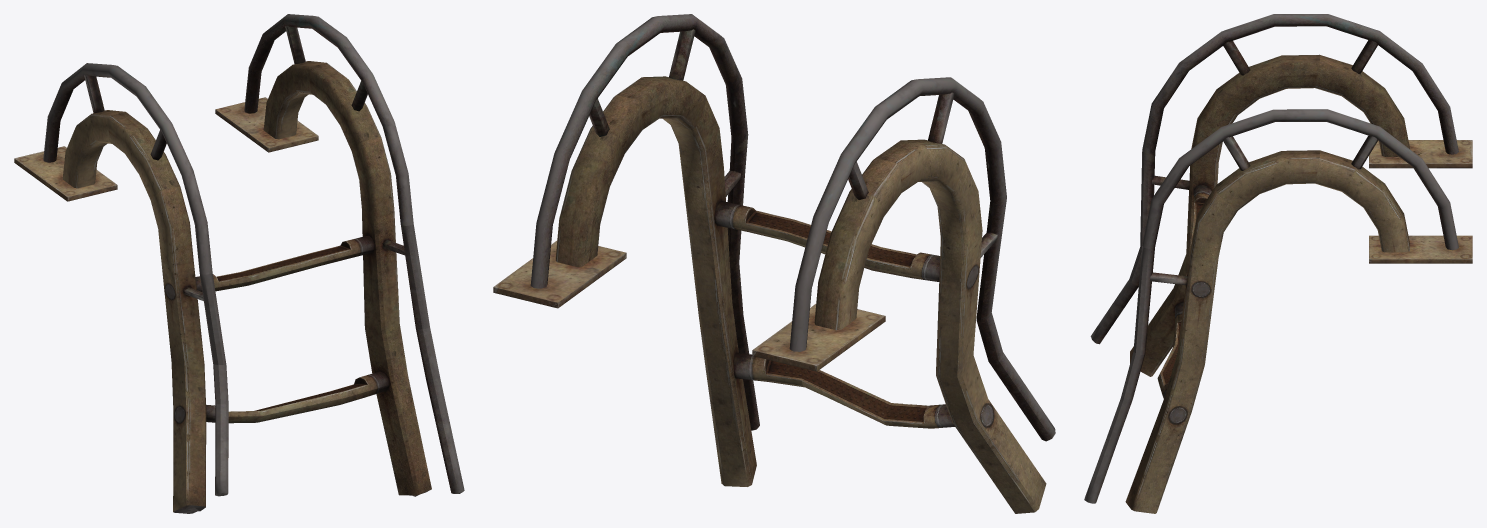
The model's file is ladder_top_pplant_broken.dae.
3 renders of one model, left to right at view 1: azimuth 30°, elevation 25°; view 2: azimuth 150°, elevation 25°; view 3: azimuth 270°, elevation 25°, orthographic. The views are drawn at different scales.
Parts seen in each view (by area): view 1: ladder_top_pplant; view 2: ladder_top_pplant; view 3: ladder_top_pplant.
Part boxes in pixels (bbox=[...]): ladder_top_pplant: bbox=[14, 14, 464, 513]; ladder_top_pplant: bbox=[493, 14, 1055, 513]; ladder_top_pplant: bbox=[1084, 14, 1472, 513].
Size of the model in its own units: 0.9684 by 1.47 by 1.29.
